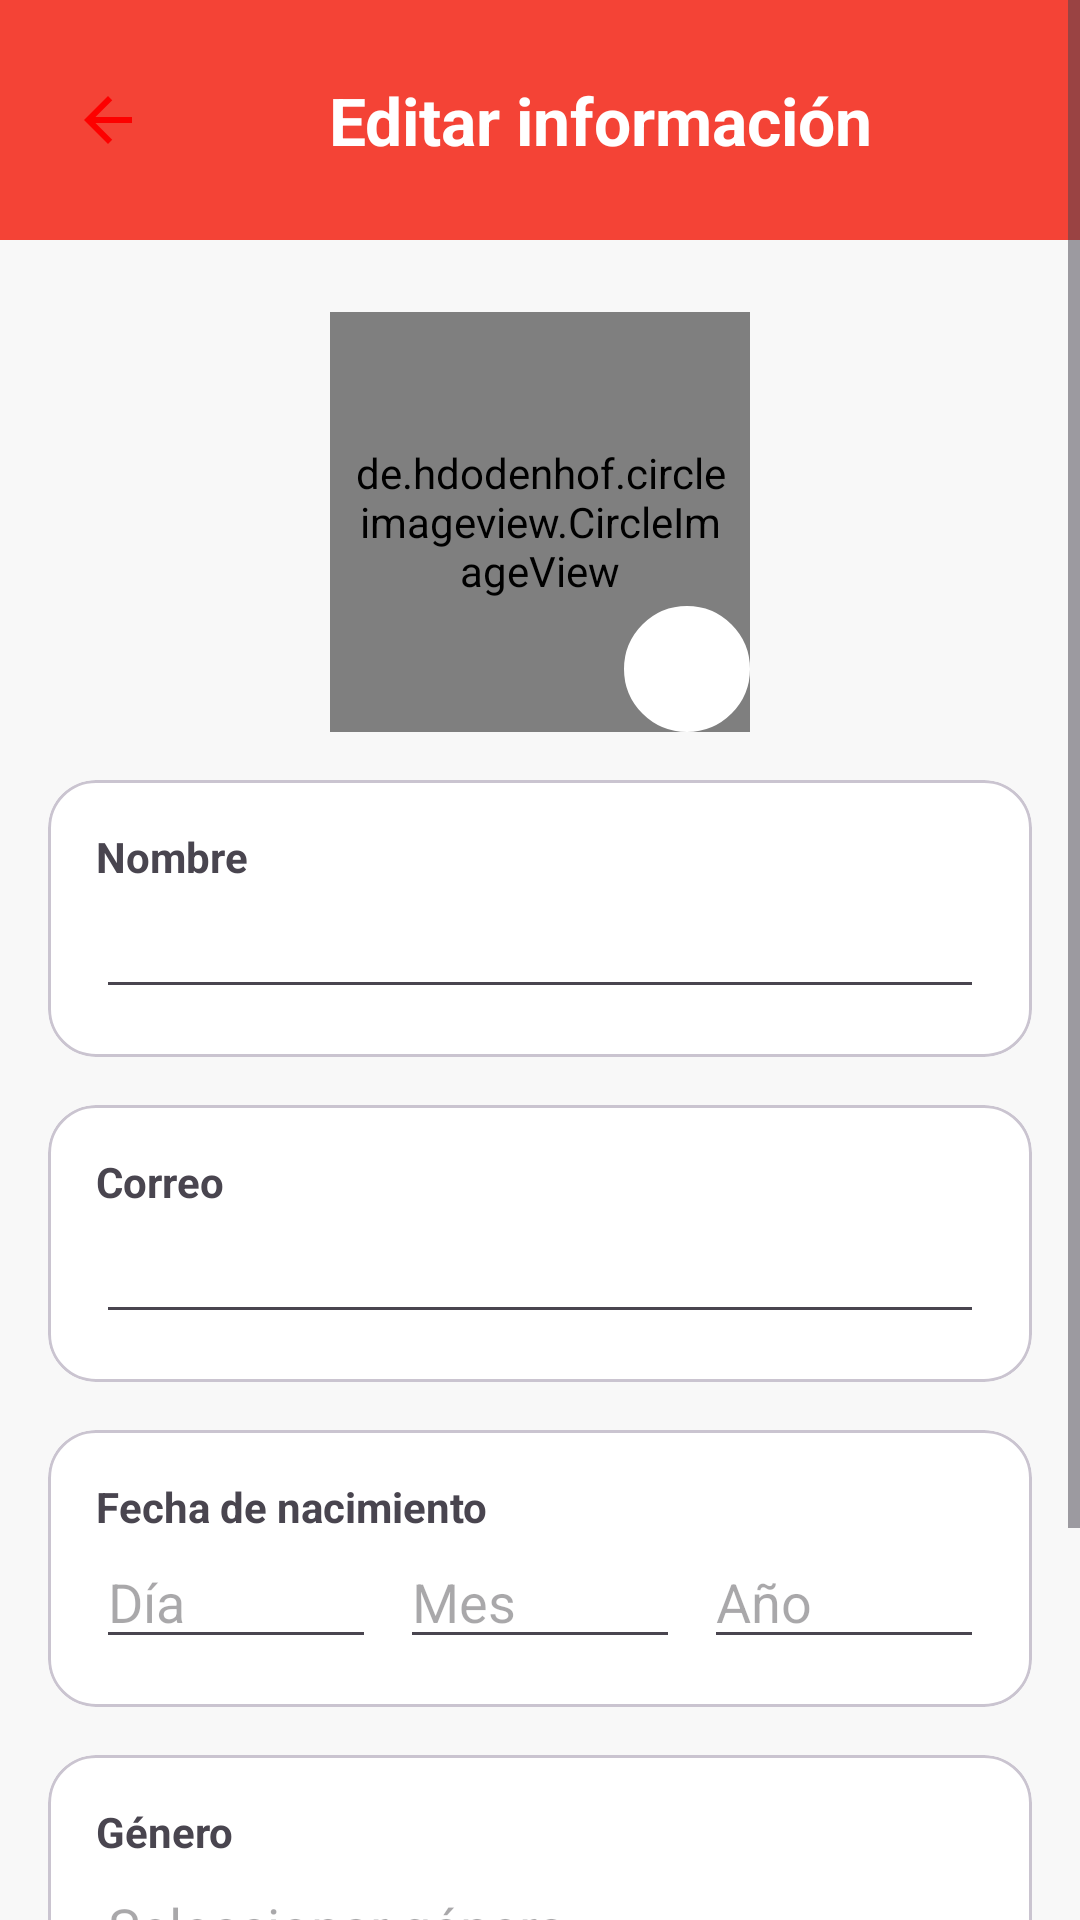

Named icons in this screenshot (1080px×1920px) and their centers, (x=x, y=y):
regresar: (x=108, y=120)
